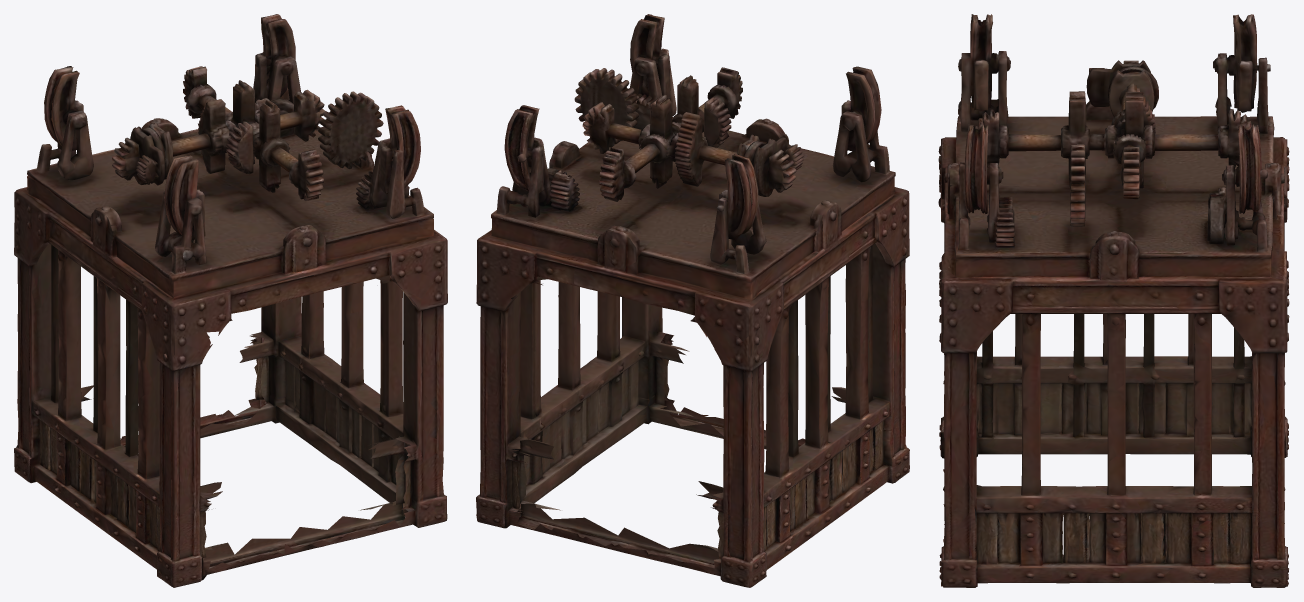
Rendered from mine_lift_cage.glb.
The picture shows the model from 3 angles, left to right: view 1: azimuth 30°, elevation 25°; view 2: azimuth 150°, elevation 25°; view 3: azimuth 270°, elevation 25°; orthographic projection. The views are drawn at different scales.
Parts seen in each view (by area): view 1: CageModel; view 2: CageModel; view 3: CageModel.
Boxes of the visible parts, x1,y1,x2,y2 form: CageModel: (14, 14, 447, 587); CageModel: (476, 14, 909, 587); CageModel: (938, 14, 1289, 587).
Size of the model in its own units: 3.8 by 5.29 by 3.8.
1 material, 1 textured.
